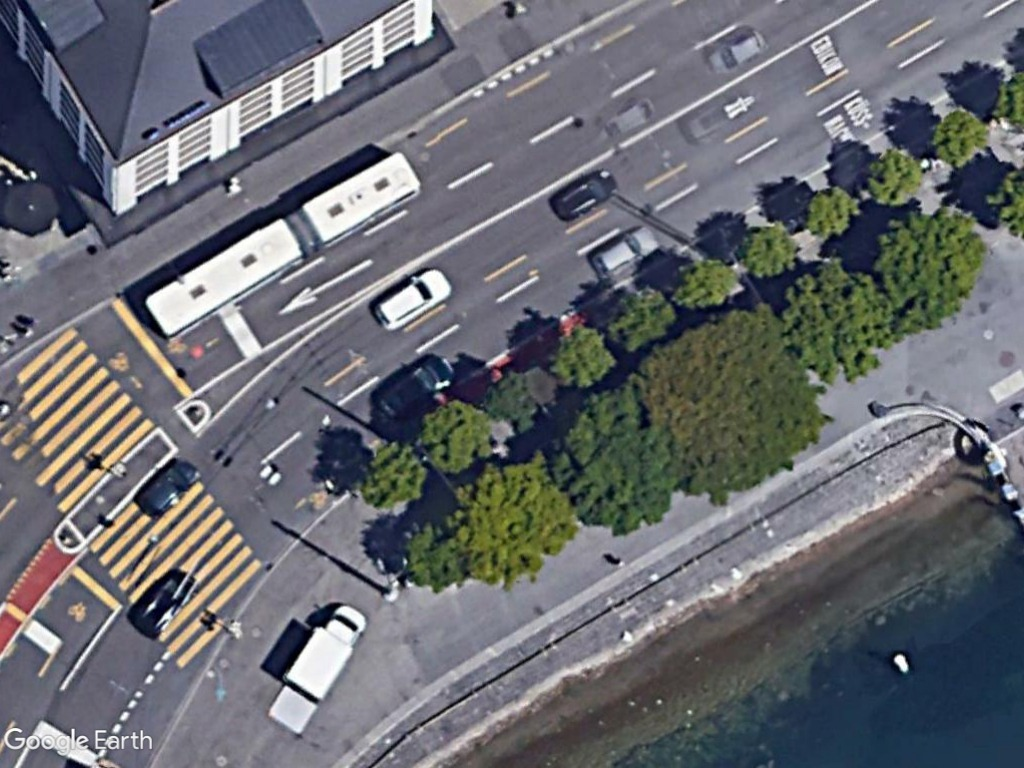bus: (141, 214, 307, 344), (298, 144, 428, 252)
car: (370, 263, 455, 332), (590, 224, 659, 281)
truck: (283, 603, 368, 705)
